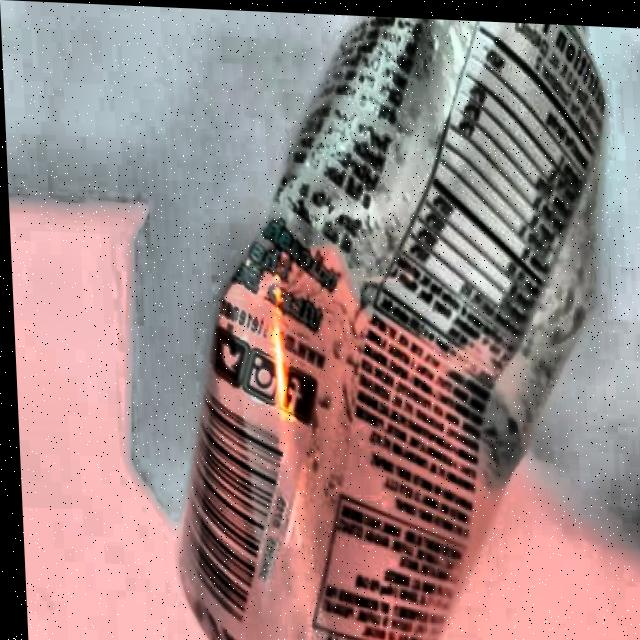metal: (150, 7, 635, 640)
